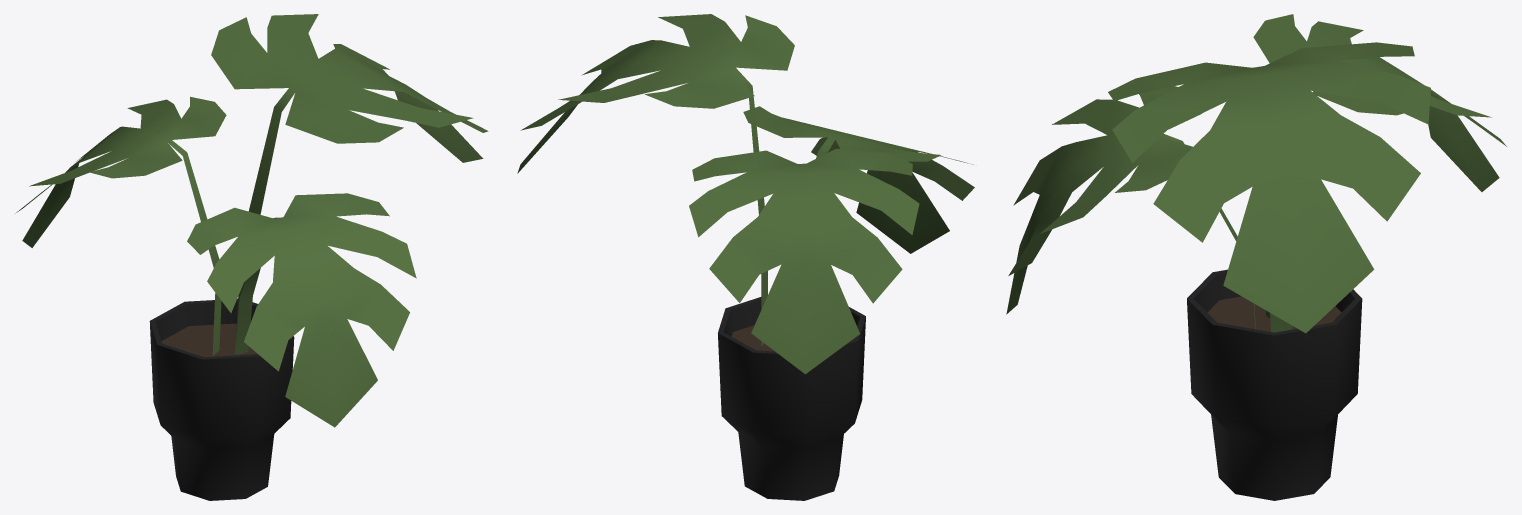
File: pk_plant_small.glb
The picture shows the model from 3 angles, left to right: view 1: azimuth 30°, elevation 25°; view 2: azimuth 150°, elevation 25°; view 3: azimuth 270°, elevation 25°; orthographic projection. The views are drawn at different scales.
Parts seen in each view (by area): view 1: pk_plant_small; view 2: pk_plant_small; view 3: pk_plant_small.
Boxes of the visible parts, left/top/right/bottom form: pk_plant_small: left=15, top=14, right=488, bottom=500; pk_plant_small: left=517, top=14, right=974, bottom=500; pk_plant_small: left=1006, top=14, right=1506, bottom=500.
Size of the model in its own units: 0.5896 by 0.55 by 0.5323.
Materials: 1 (1 with a texture image).
